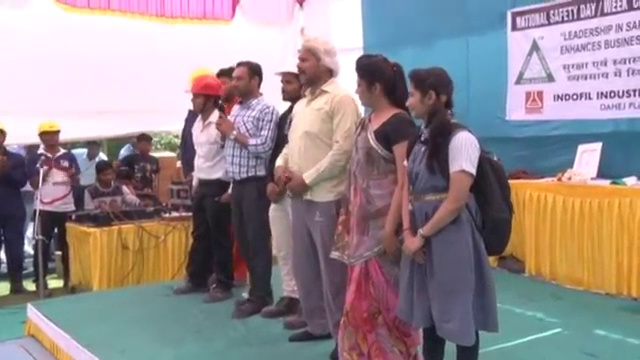helmet: (181, 72, 222, 99), (273, 55, 300, 78), (37, 120, 62, 136), (0, 121, 7, 136)
helmet_off: (353, 54, 408, 116), (405, 65, 457, 125), (294, 40, 339, 88), (223, 61, 265, 107), (213, 66, 240, 110), (94, 160, 116, 187), (136, 135, 153, 157), (85, 140, 101, 161)
helmet_on: (182, 71, 221, 119), (274, 57, 307, 104), (36, 120, 61, 155), (0, 121, 9, 153)
person: (401, 56, 514, 360), (272, 40, 359, 346), (346, 52, 419, 360), (214, 61, 278, 318), (261, 48, 311, 329), (174, 76, 234, 304), (33, 120, 88, 296), (0, 121, 32, 302), (84, 158, 154, 215), (120, 134, 161, 199), (70, 139, 106, 210)
